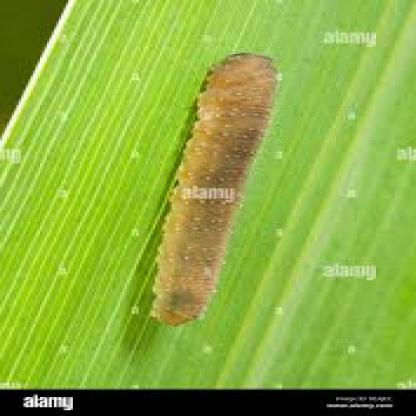sawfly: (128, 43, 288, 334)
